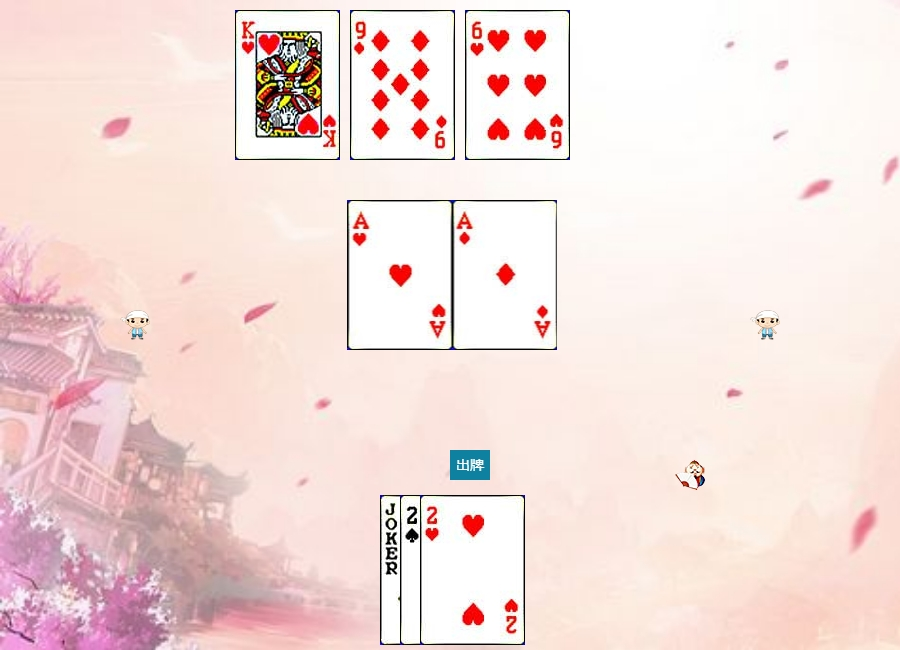13~3: (235, 10, 340, 160)
14~1: (453, 200, 558, 350)
14~3: (348, 200, 453, 350)
15~3: (420, 495, 525, 645)
15~4: (400, 495, 505, 645)
17~3: (380, 495, 485, 645)
6~3: (465, 10, 570, 160)
9~1: (350, 10, 455, 160)
